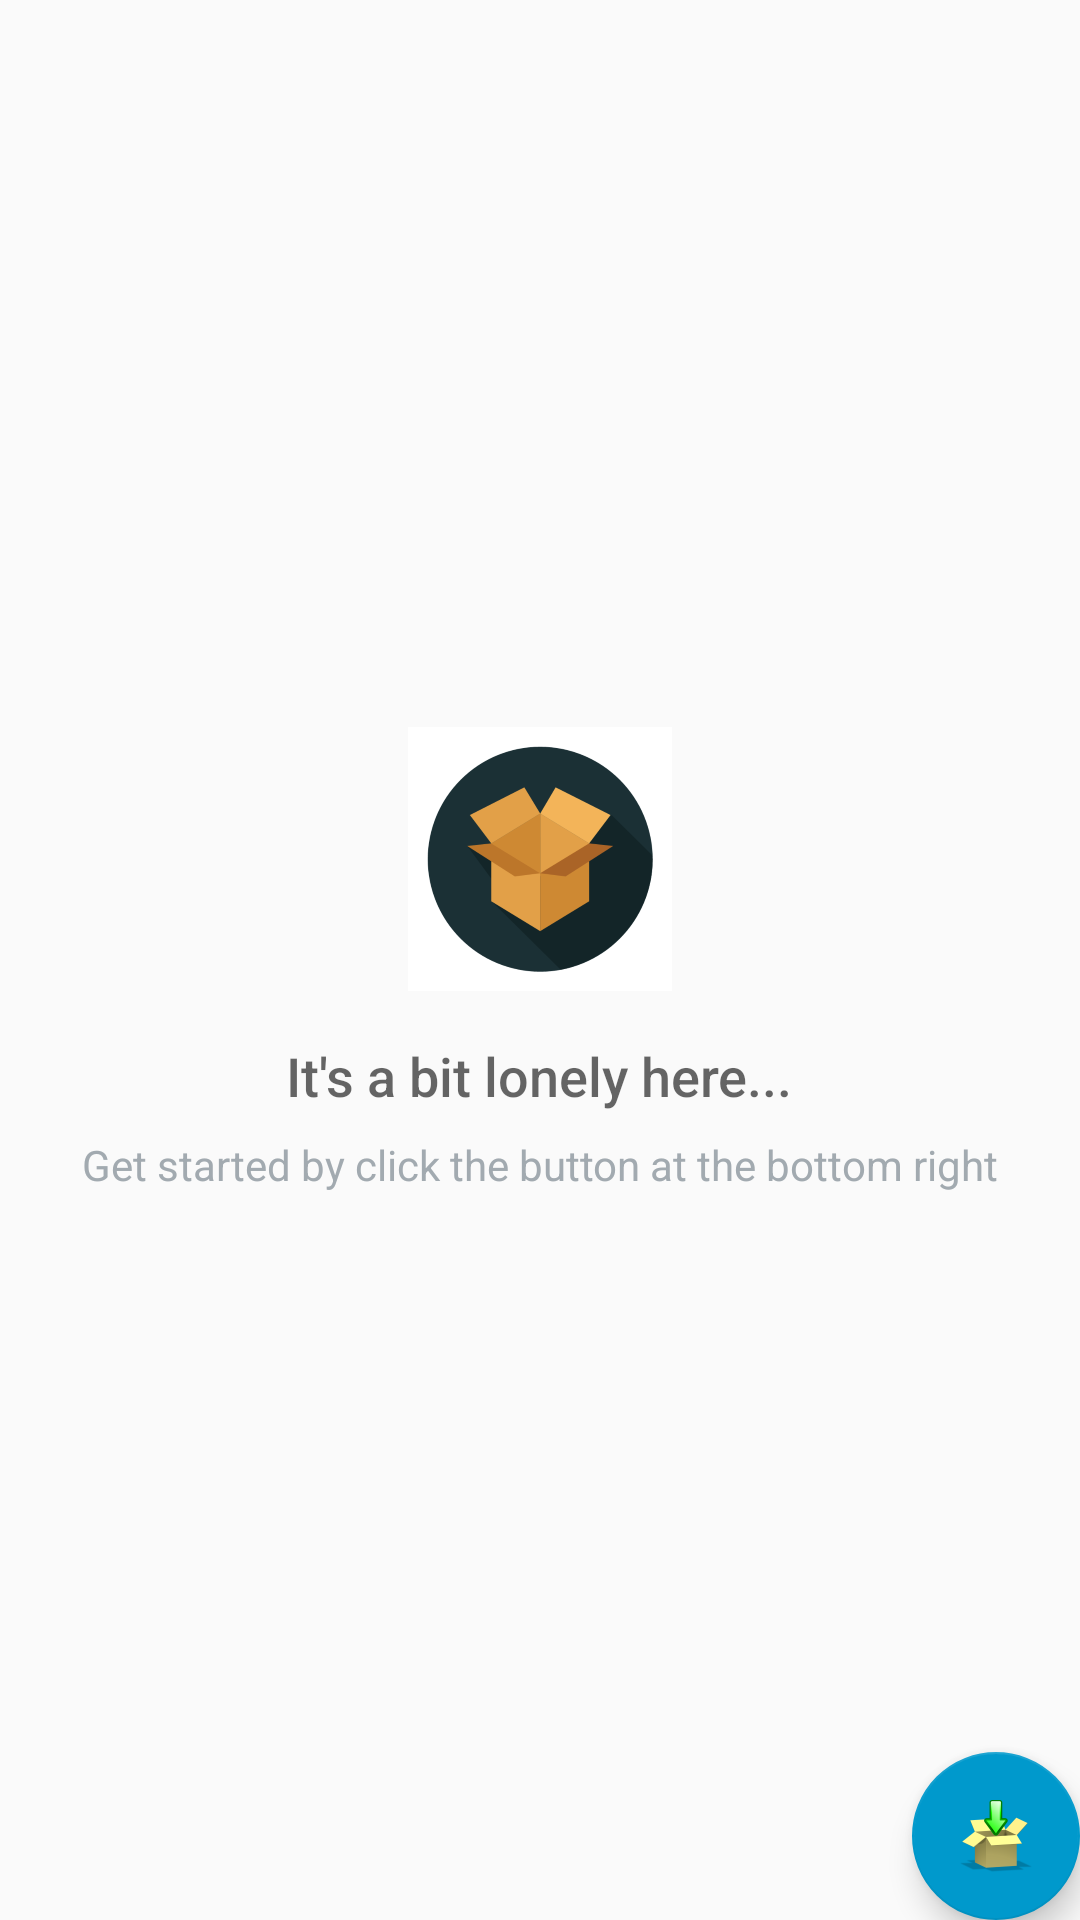

Screen size 1080x1920. Icon name, then its center in pixels as [x,y]:
add inventory: [996,1836]
empty box: [540,859]
